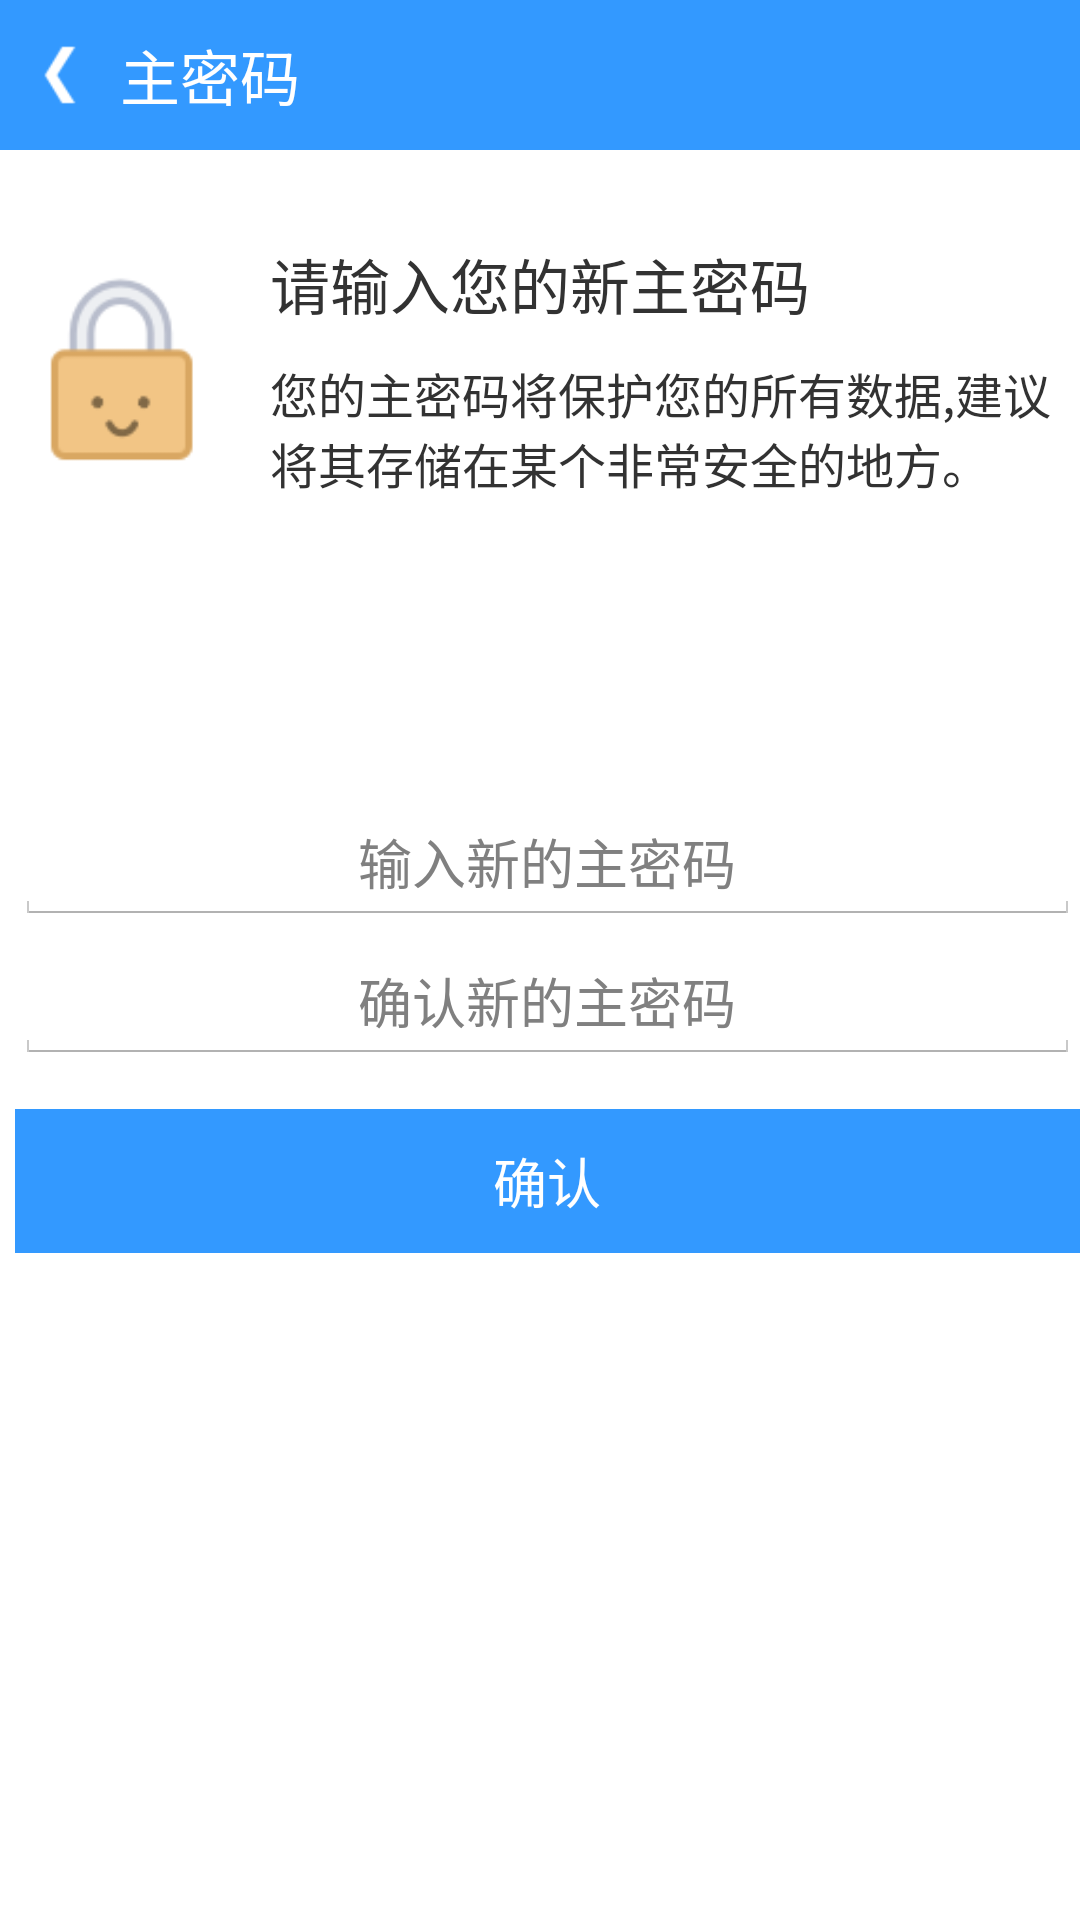

Icons on this 1080px x 1920px Android screen, each with its box as (x1, y1, x2, y2):
back: (44, 46, 76, 104)
